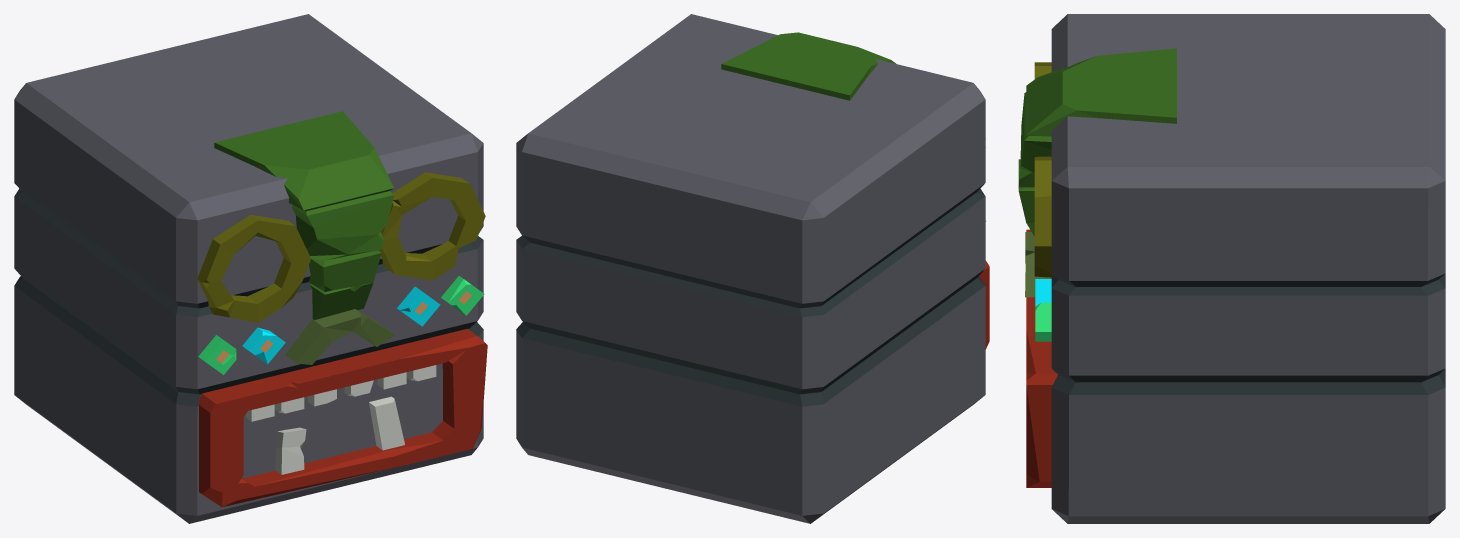
Rendered from Face Stone_2.fbx.
The picture shows the model from 3 angles, left to right: view 1: azimuth 30°, elevation 25°; view 2: azimuth 150°, elevation 25°; view 3: azimuth 270°, elevation 25°; orthographic projection. The views are drawn at different scales.
Visible parts, largest first — view 1: Face Stone_2; view 2: Face Stone_2; view 3: Face Stone_2.
Boxes of the visible parts, left/top/right/bottom form: Face Stone_2: left=14, top=14, right=487, bottom=523; Face Stone_2: left=516, top=14, right=989, bottom=523; Face Stone_2: left=1018, top=14, right=1445, bottom=523.
Bounding box in the file's own units: 1.61 × 1.64 × 1.75.
